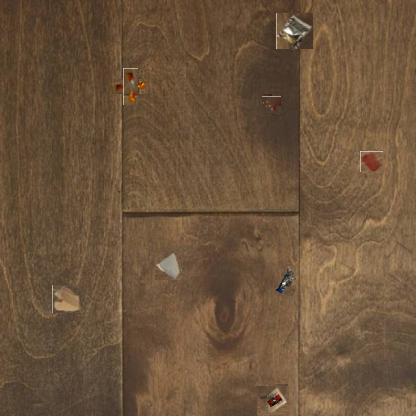dirty: (276, 13, 313, 49), (258, 385, 288, 415), (53, 285, 81, 314), (154, 251, 182, 279), (274, 266, 296, 296), (118, 74, 143, 99)
liquid: (360, 150, 383, 172), (262, 95, 281, 114)
